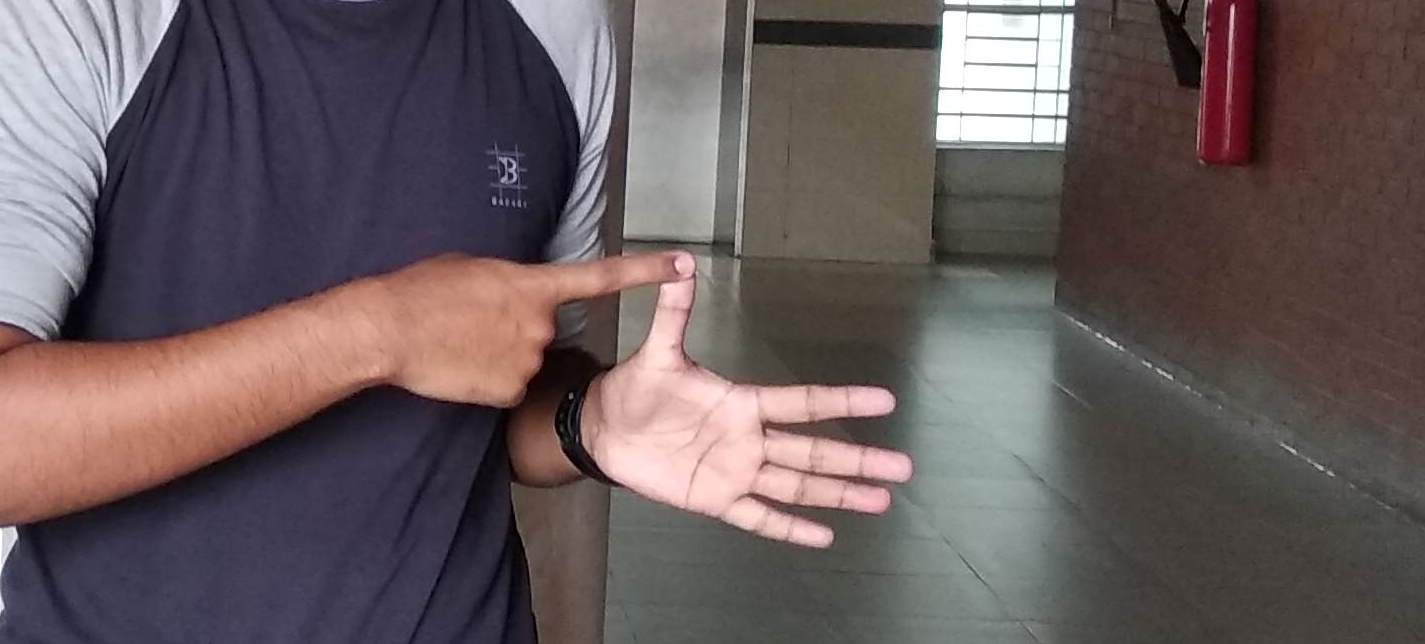a: (413, 245, 883, 565)
